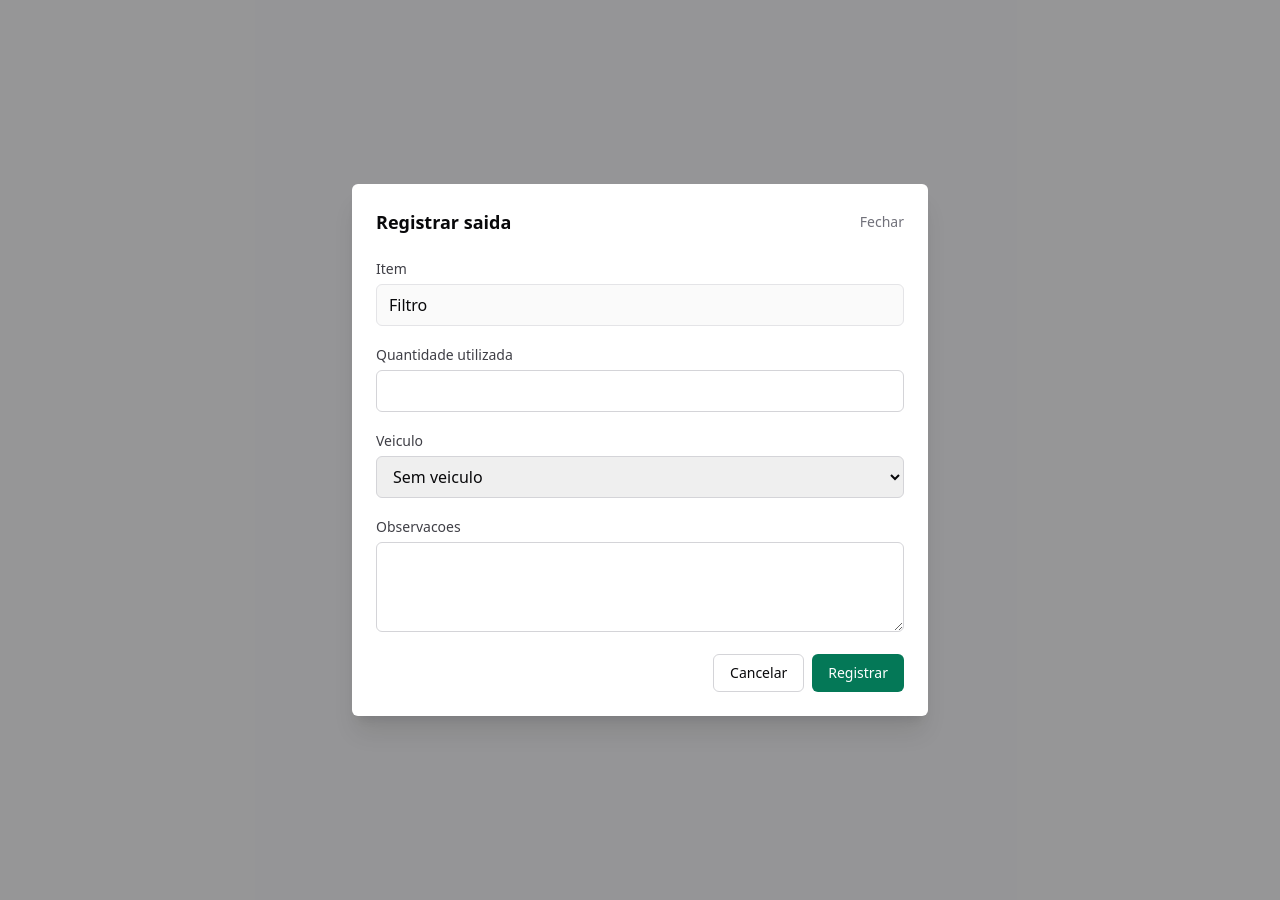
RegistrarSaidaModal › exige veiculo informado para saida de filtro
Type "2" into the number field labelled "Quantidade utilizada".
click(640, 391); type("2")  # box [376,370,904,412]
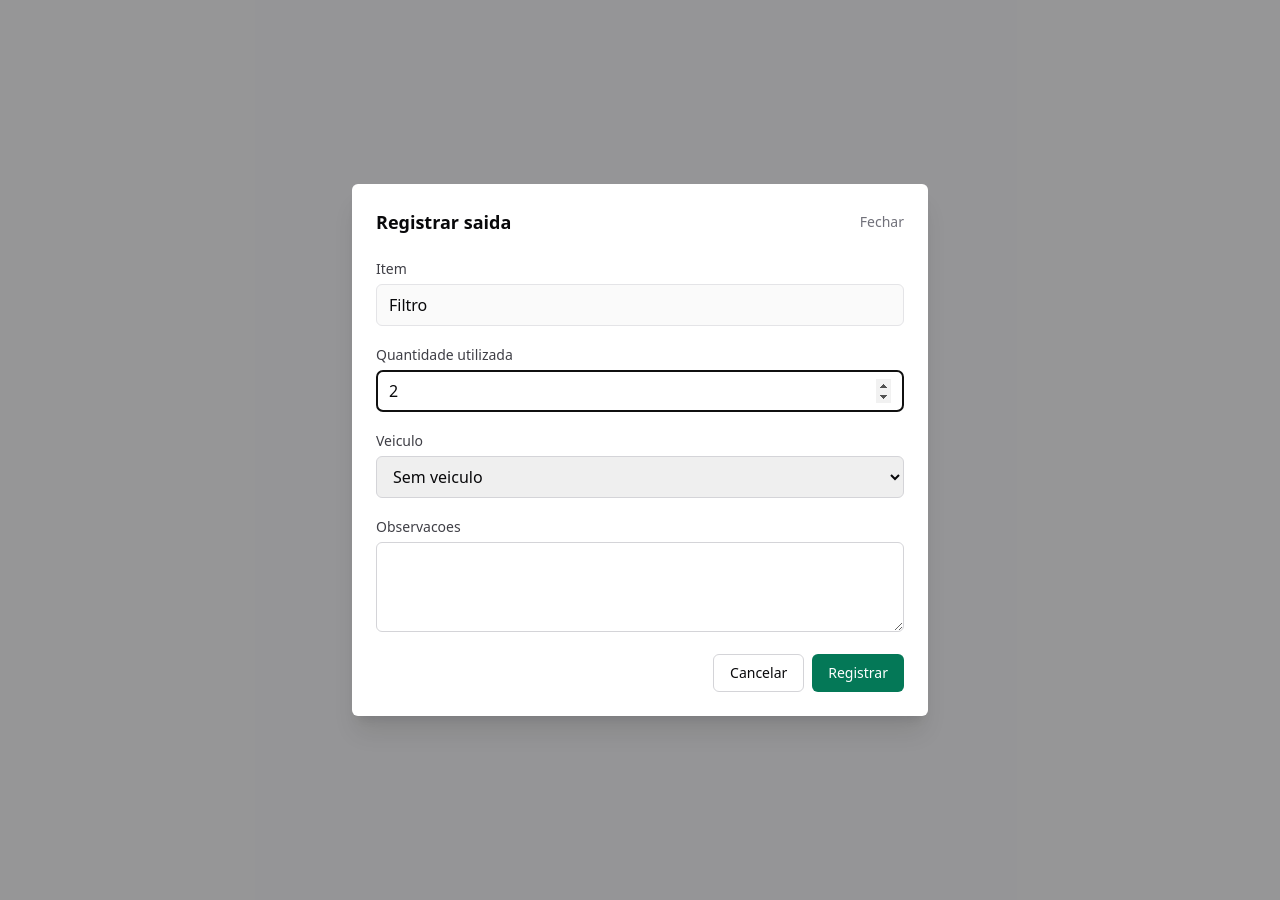
Click the button "Registrar".
click(858, 673)  # box [812,654,904,692]
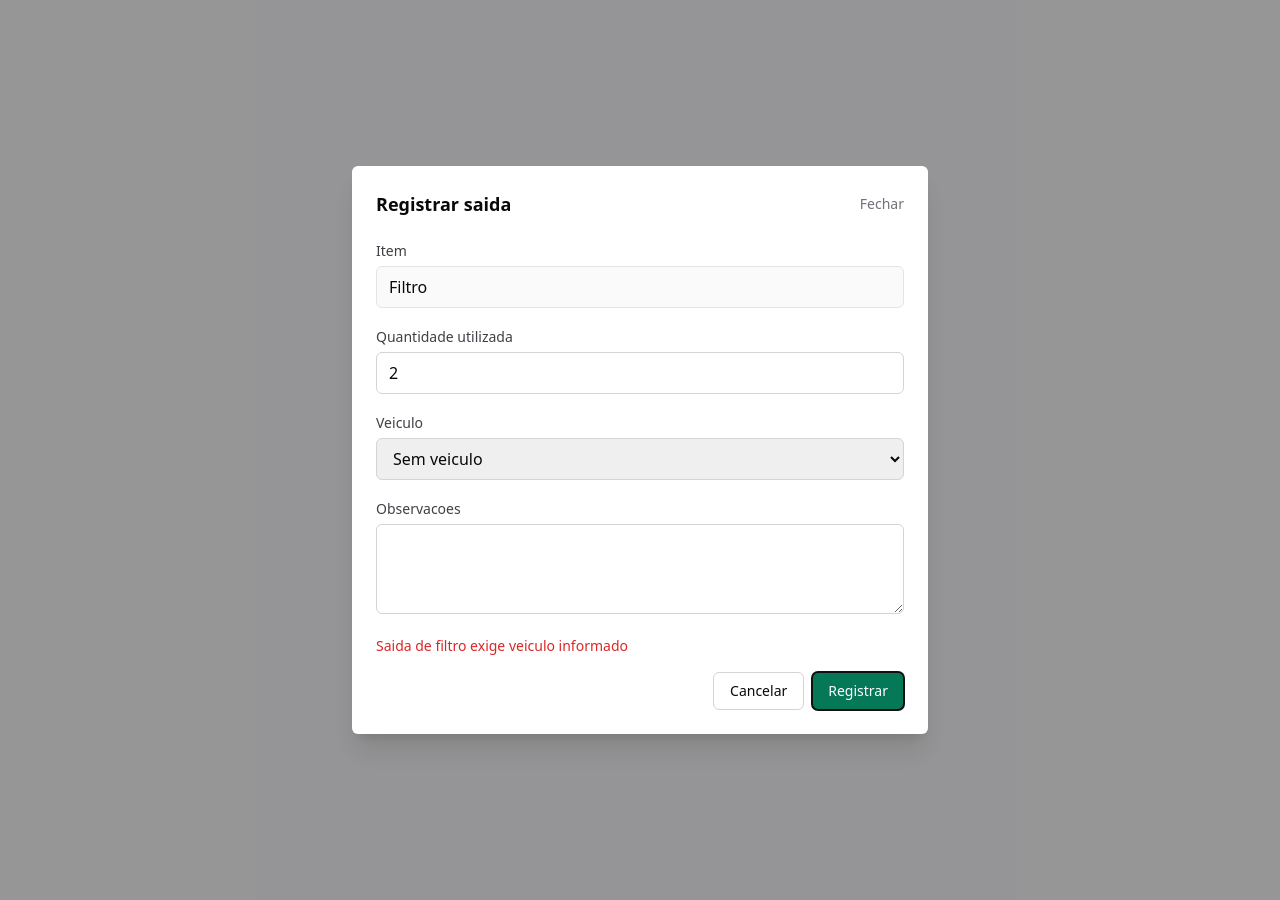
Expected: the text "Saida de filtro exige veiculo informado" is shown, [376,636,628,655]
